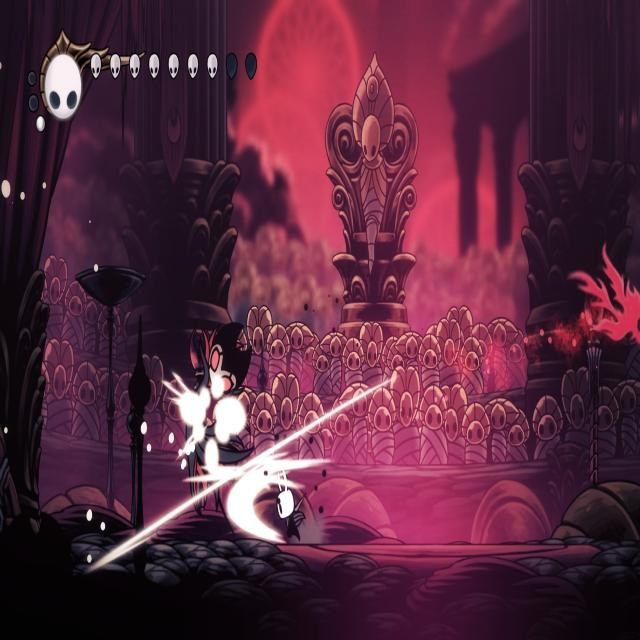Fire Bat: (570, 243, 640, 344)
Grimm: (179, 314, 257, 535)
Player: (274, 470, 307, 548)
